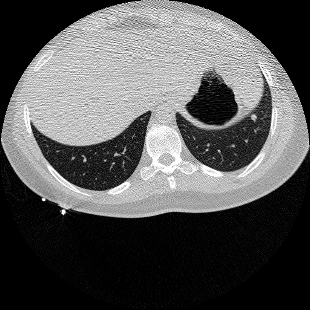nodule: (251, 115, 257, 121)
